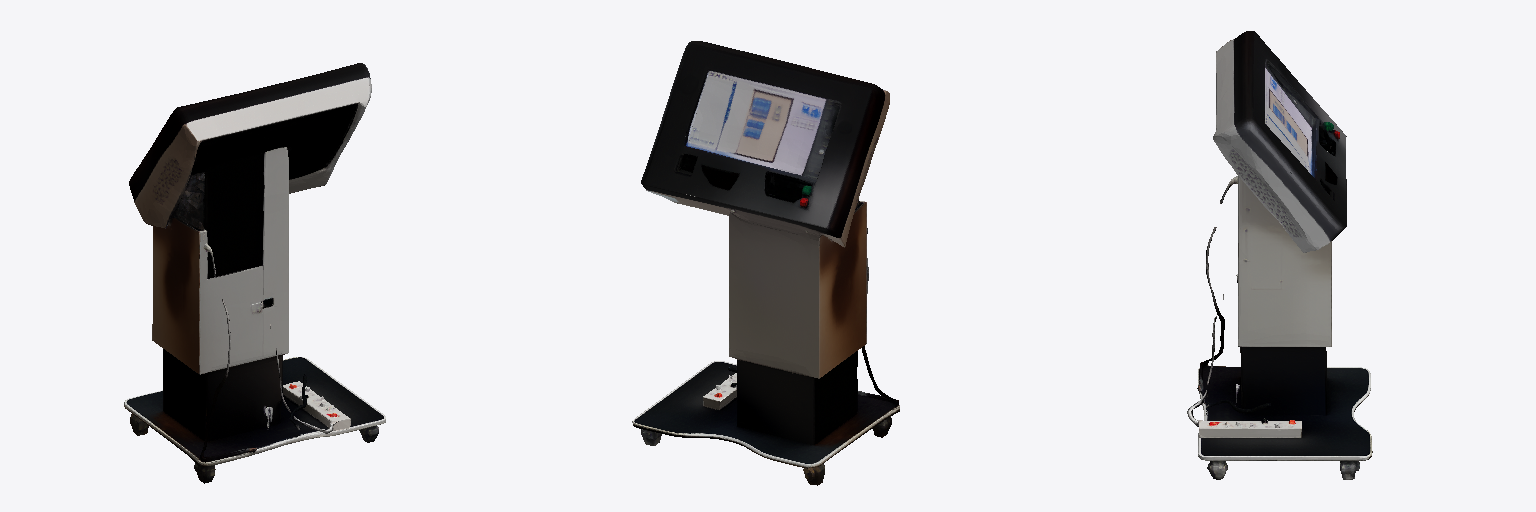
3 renders of one model, left to right at view 1: azimuth 30°, elevation 25°; view 2: azimuth 150°, elevation 25°; view 3: azimuth 270°, elevation 25°, orthographic.
Visible parts, largest first — view 1: geometry_0; view 2: geometry_0; view 3: geometry_0.
Boxes of the visible parts, x1,y1,x2,y2 form: geometry_0: [124, 63, 385, 483]; geometry_0: [632, 41, 899, 485]; geometry_0: [1187, 31, 1372, 479].
Size of the model in its own units: 0.559 by 0.9977 by 0.4596.
Materials: 1 (1 with a texture image).